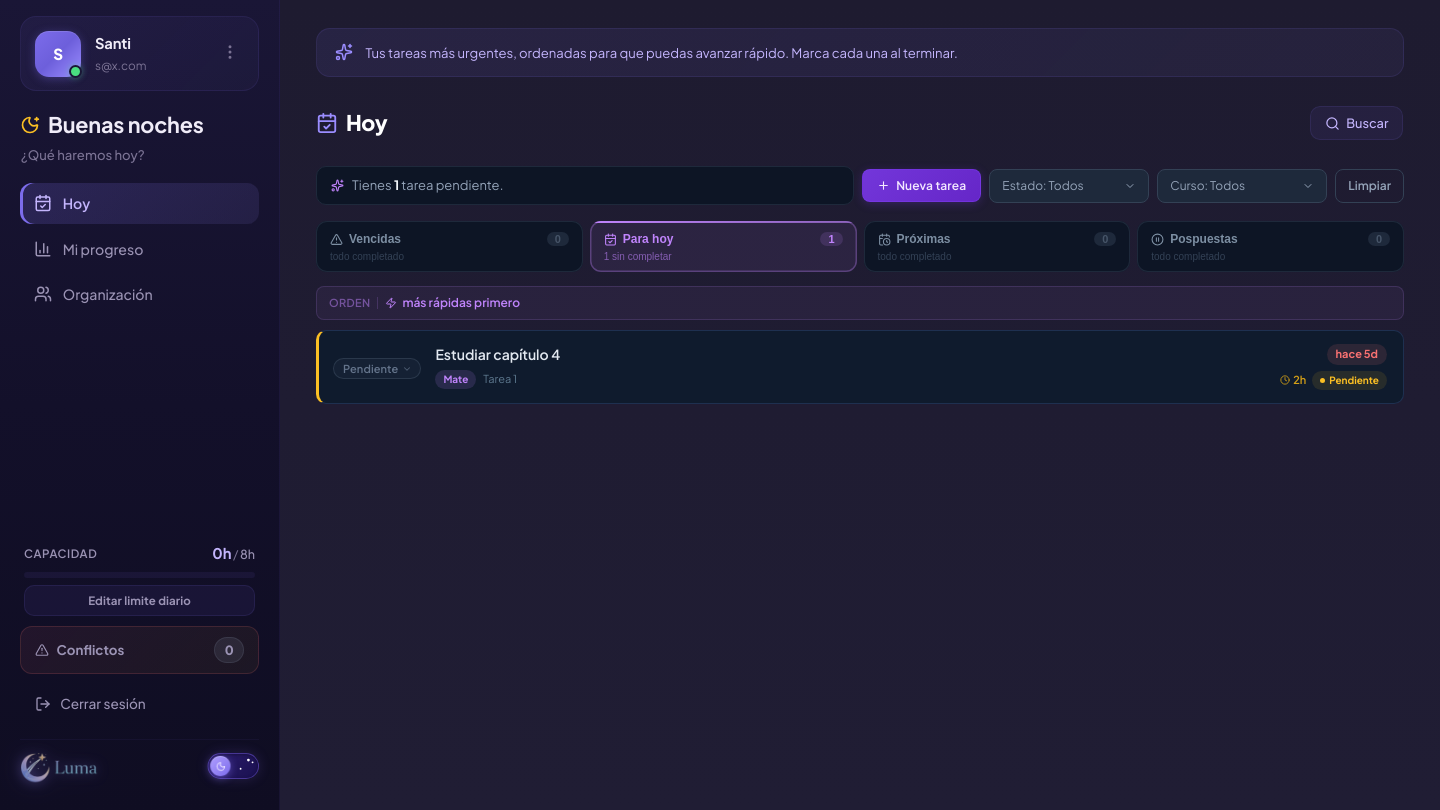
it: Dashboard — vista de hoy con datos › abre el panel de detalle de una subtarea
This screenshot has width=1440, height=810.
Expected: the element with test id "today-toolbar" is shown, [316,166,1404,205]
What coordinates should you click on to do the following:
click the button with test id "today-subtask-card-50"
I would click on:
 (498, 354)
Its box is [316,330,1404,404].
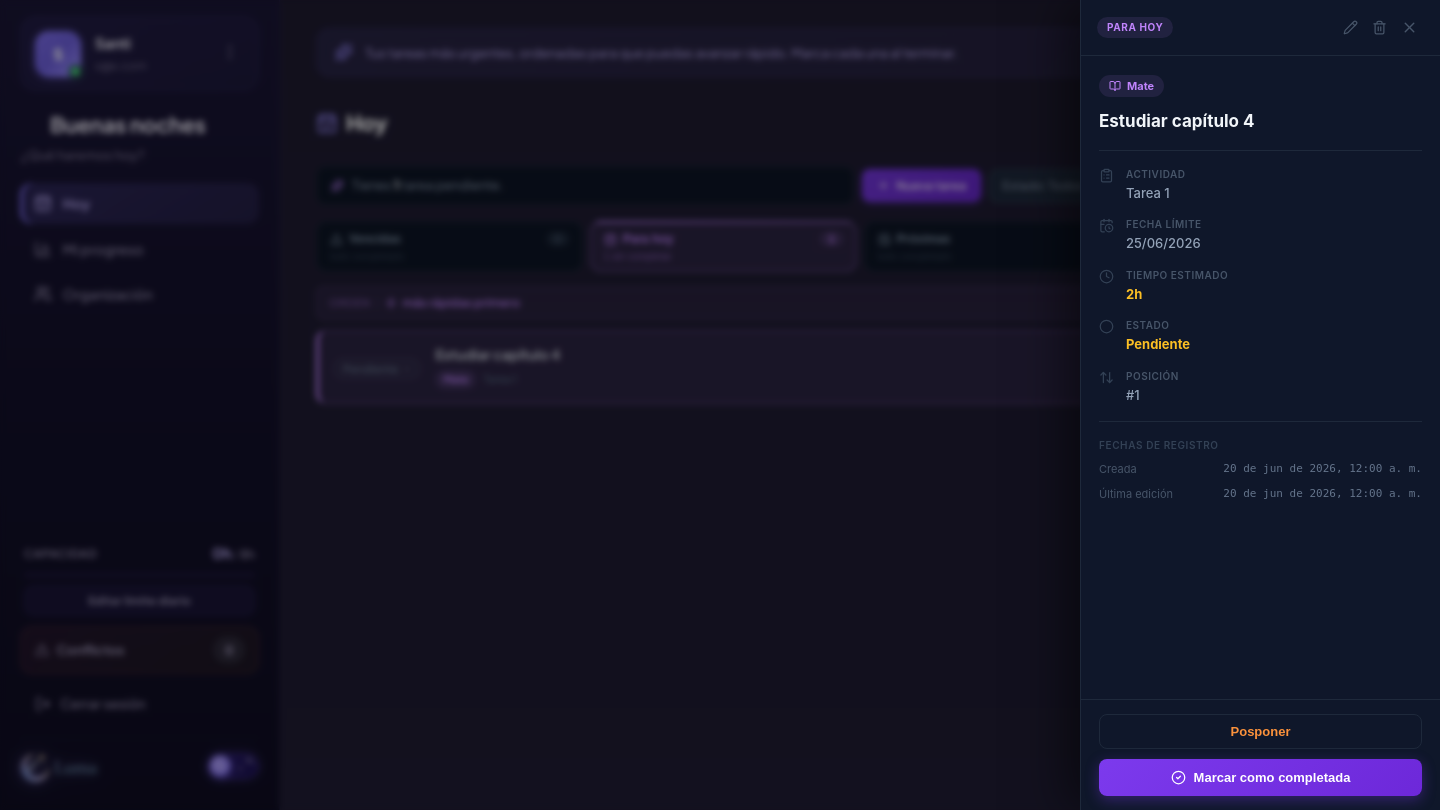
Expected: the dialog with test id "subtask-detail-panel" is shown, [1080,0,1439,809]
